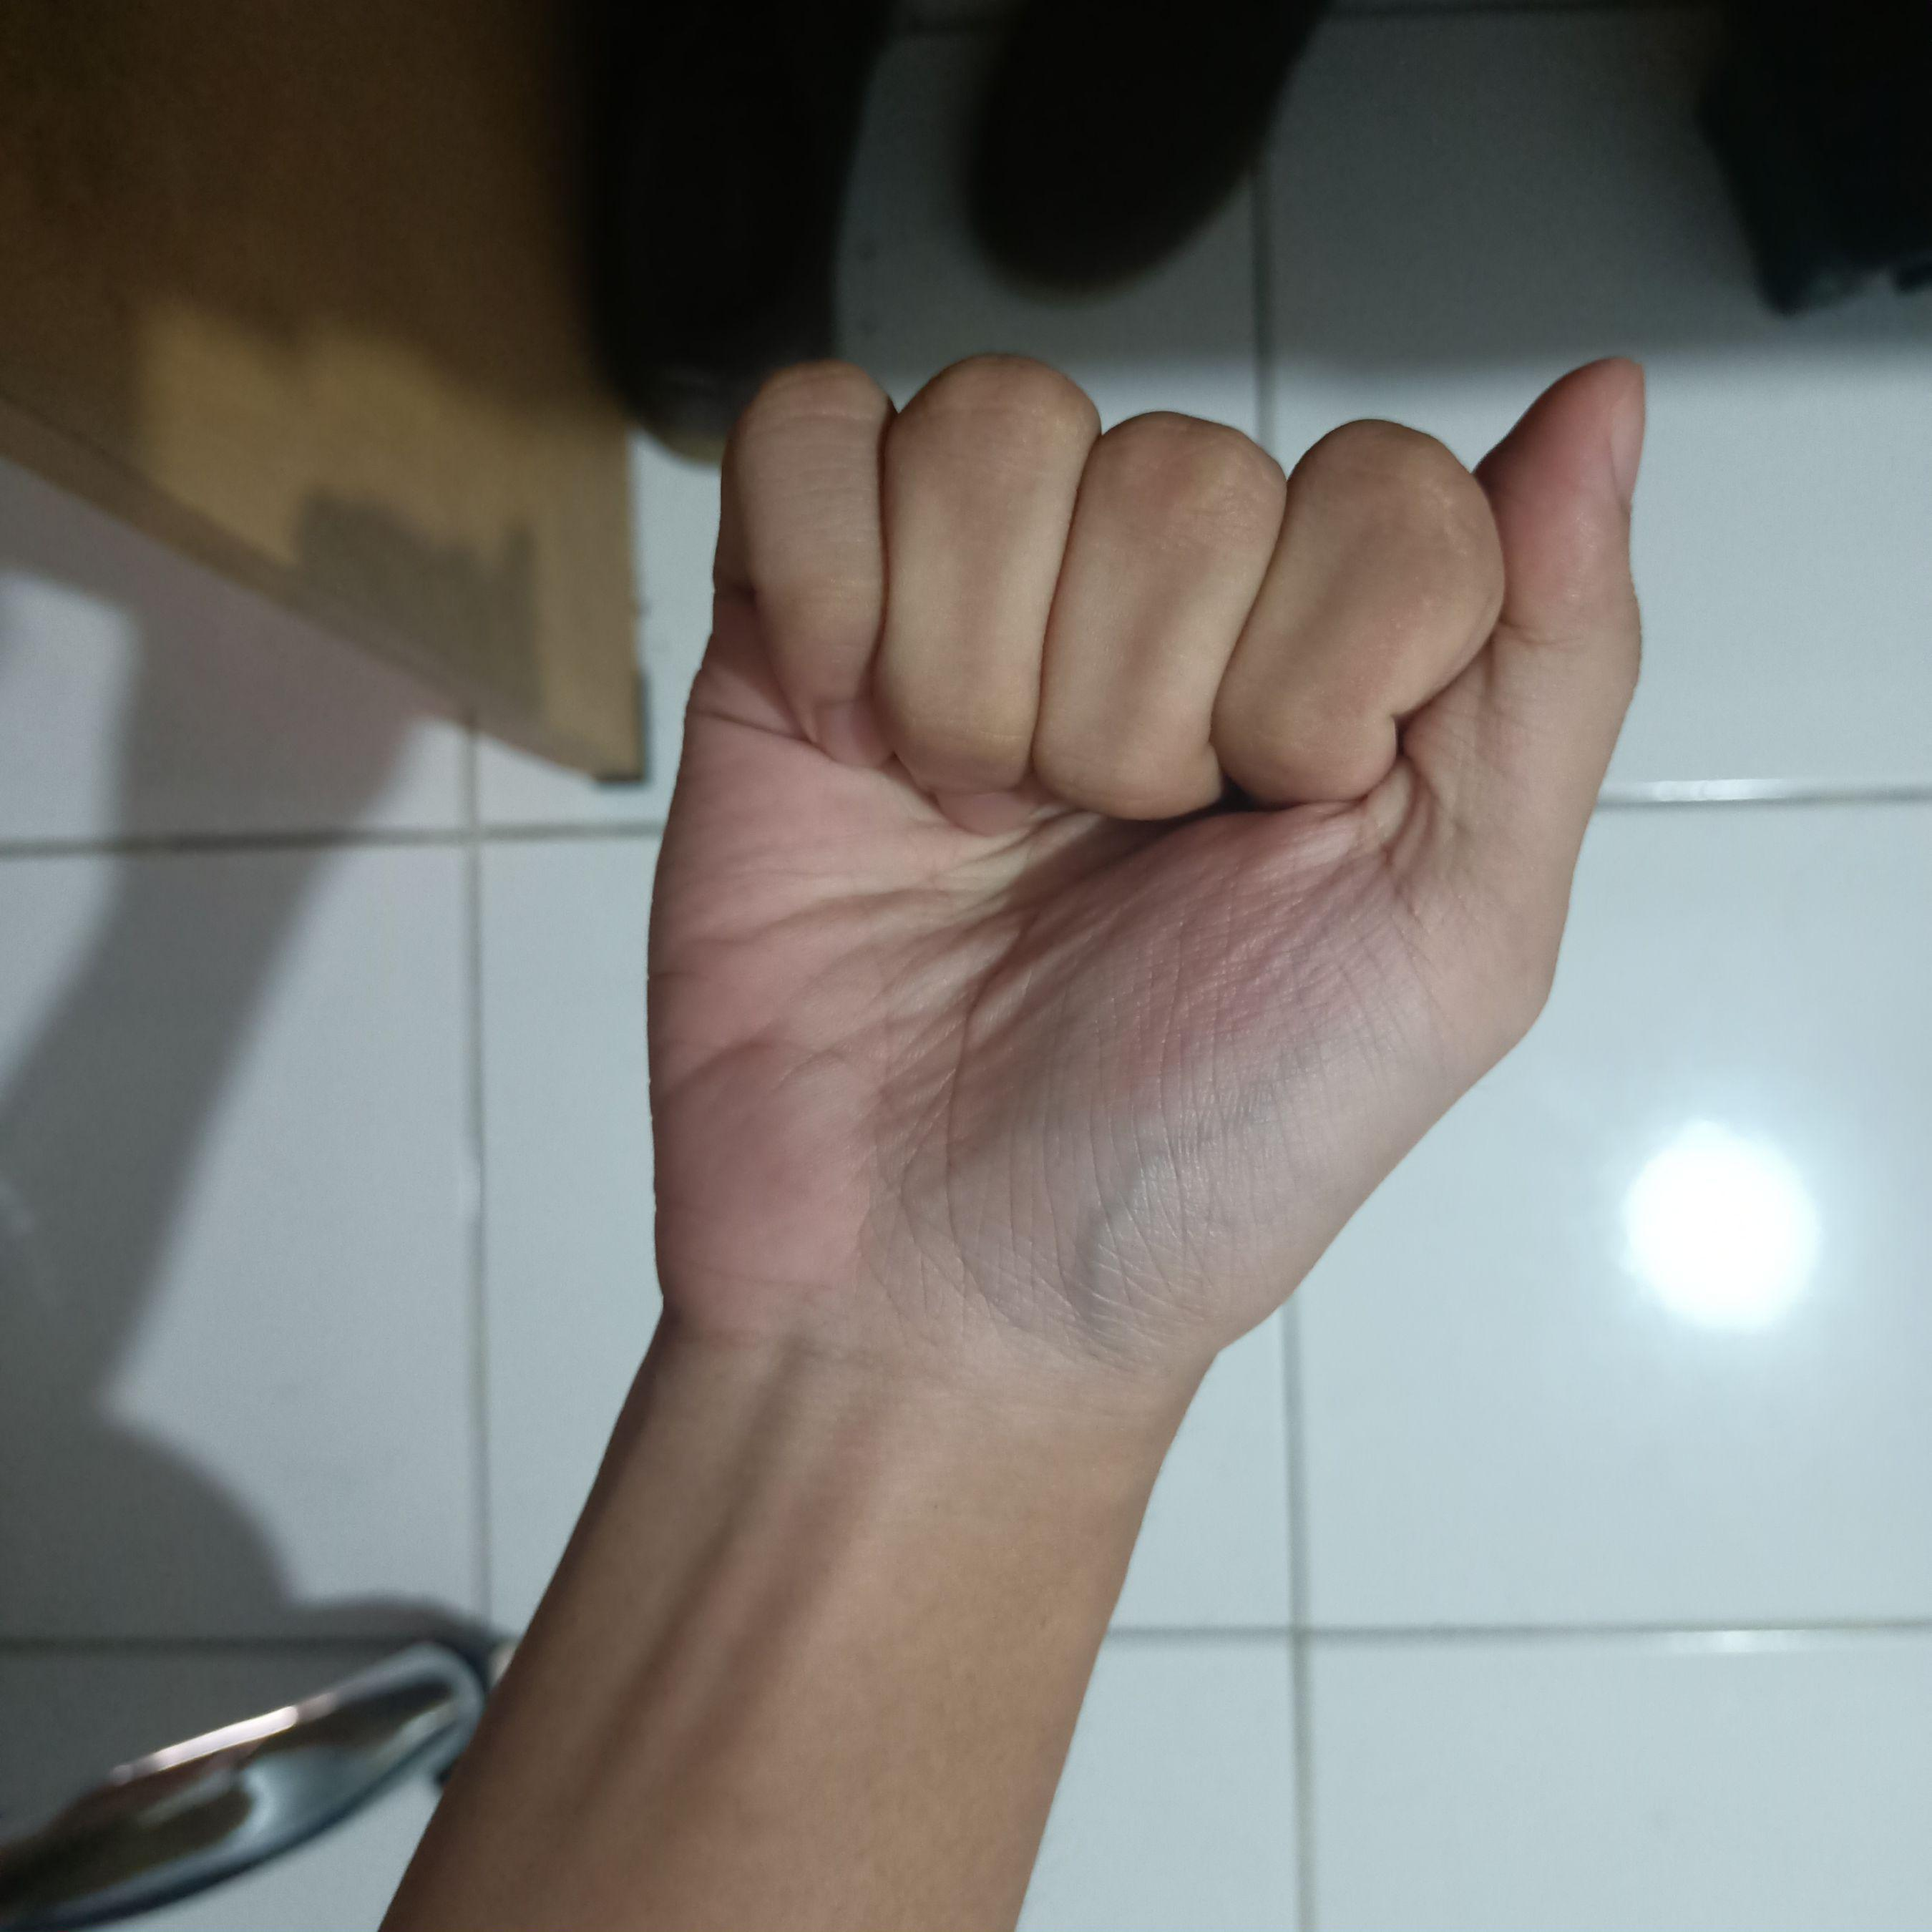rock: (617, 317, 1697, 1479)
